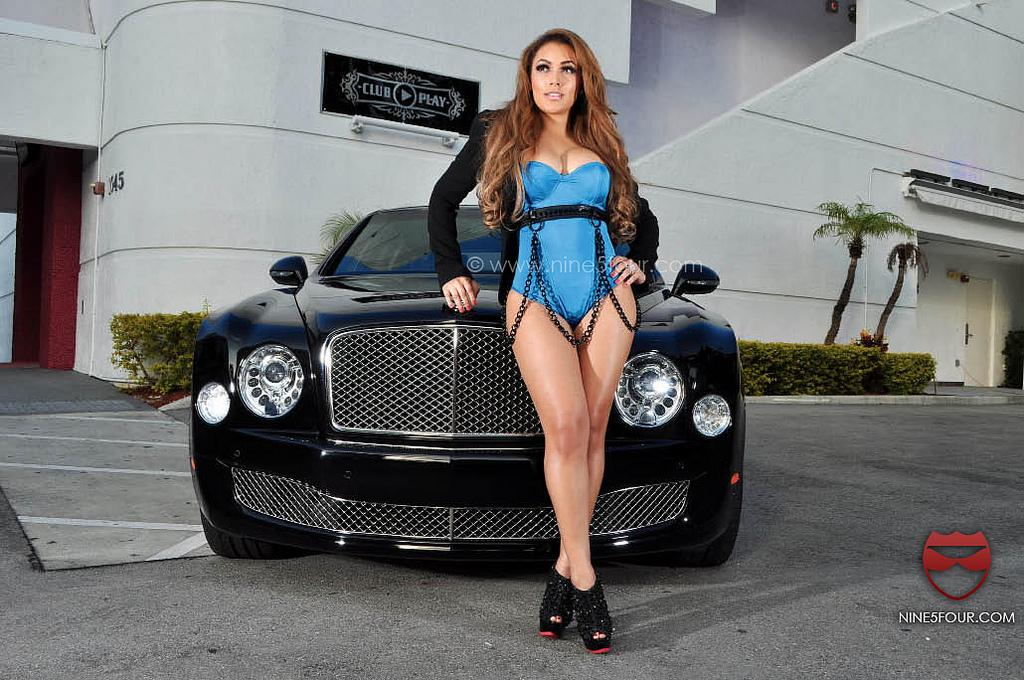face: (530, 42, 582, 112)
